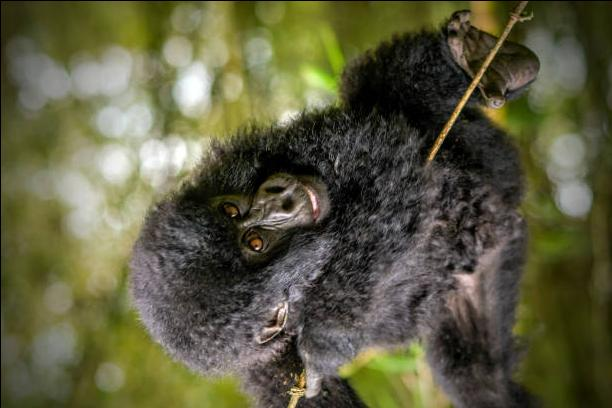goriile_montagne: (120, 20, 548, 404)
